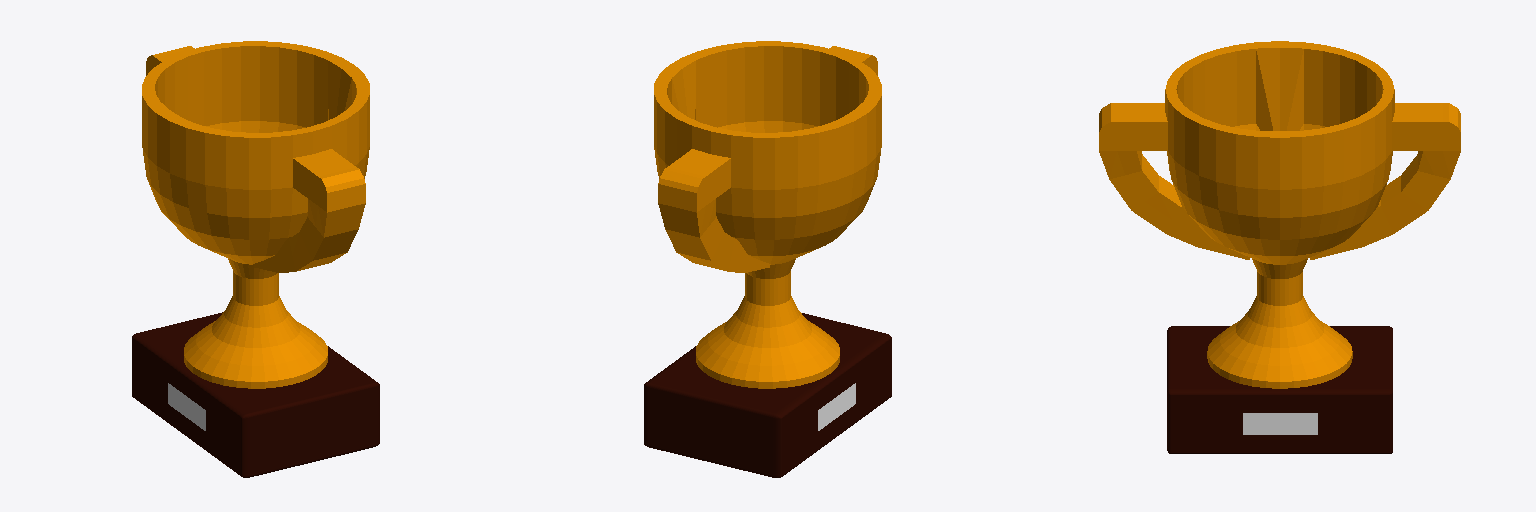
The model's file is Cup1.obj.
The picture shows the model from 3 angles: view 1: azimuth 30°, elevation 25°; view 2: azimuth 150°, elevation 25°; view 3: azimuth 270°, elevation 25°; orthographic projection.
Parts seen in each view (by area): view 1: Circle, Cube_Cube.001; view 2: Circle, Cube_Cube.001; view 3: Circle, Cube_Cube.001.
Part boxes in pixels (left/top/right/bottom): Circle: left=142, top=41, right=369, bottom=388; Cube_Cube.001: left=132, top=312, right=379, bottom=477; Circle: left=654, top=41, right=881, bottom=388; Cube_Cube.001: left=644, top=313, right=891, bottom=477; Circle: left=1099, top=41, right=1460, bottom=388; Cube_Cube.001: left=1167, top=326, right=1392, bottom=453.
Size of the model in its own units: 0.7445 by 1.19 by 1.18.